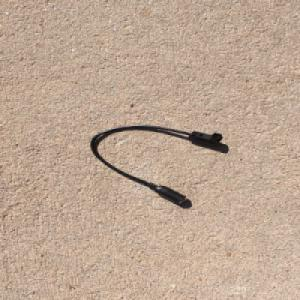Wire: (90, 124, 226, 205)
